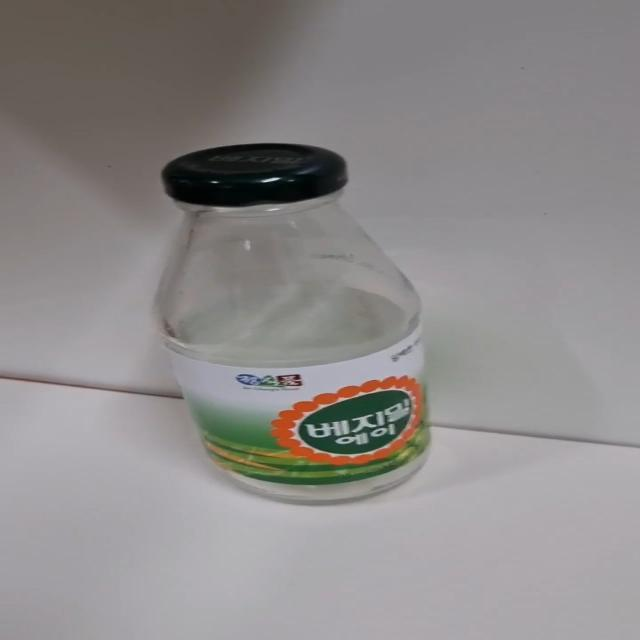Glass: (153, 143, 431, 507)
